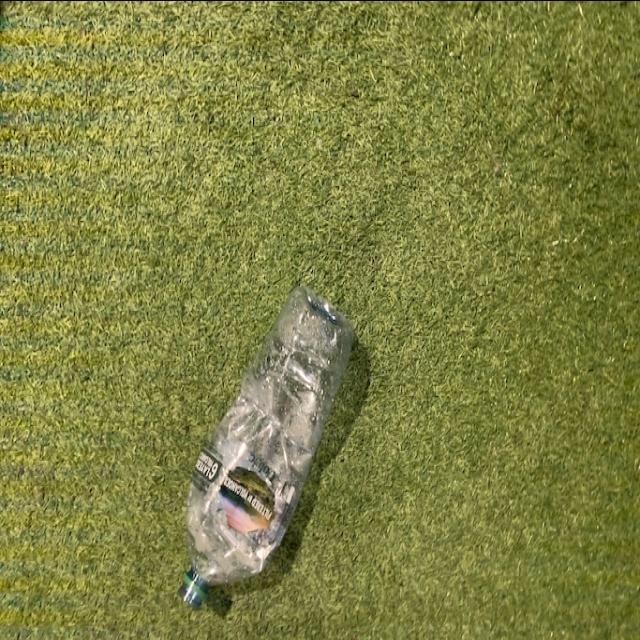litter: (179, 276, 357, 608)
